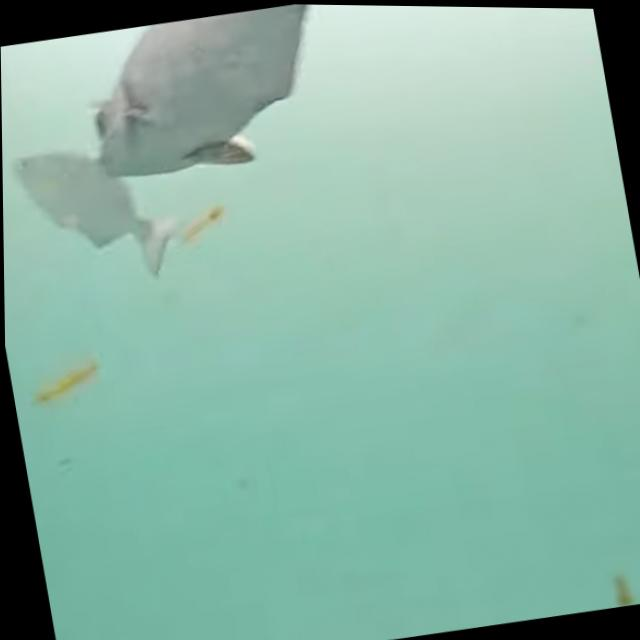fish: (74, 1, 439, 194), (2, 124, 195, 307)
